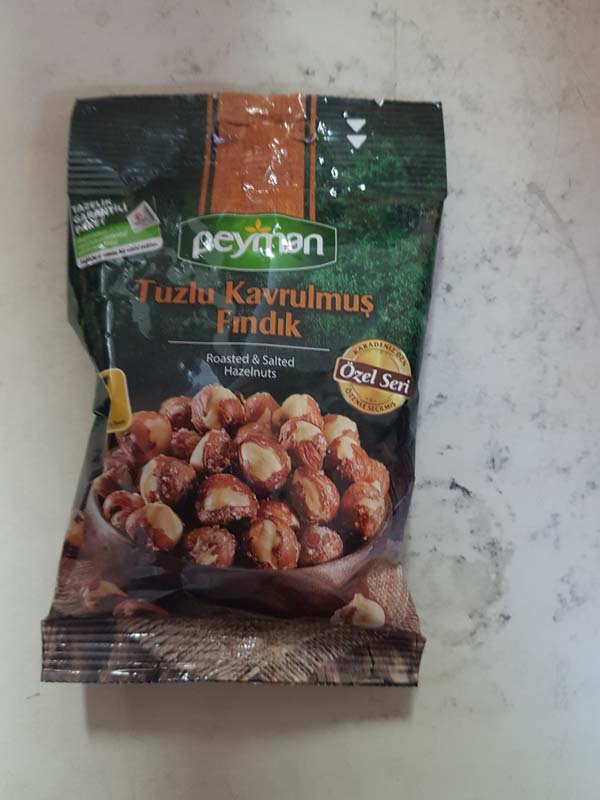peysankavrulmusfindik: (27, 92, 450, 695)
